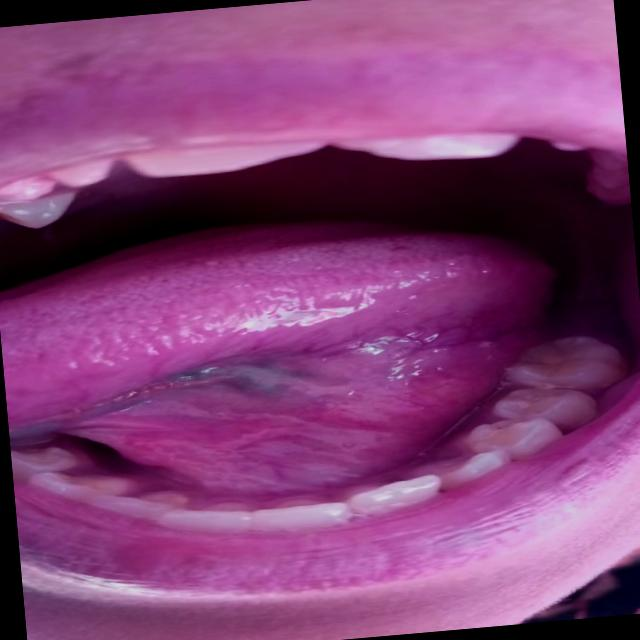No Cancer: (0, 307, 184, 389)
